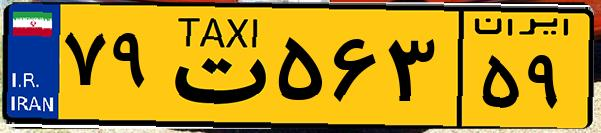3: (385, 28, 445, 110)
5: (270, 28, 330, 110), (475, 38, 525, 113)
6: (330, 28, 385, 110)
7: (57, 26, 110, 100)
9: (525, 38, 570, 115), (110, 28, 158, 98)
ت: (158, 12, 270, 120)
